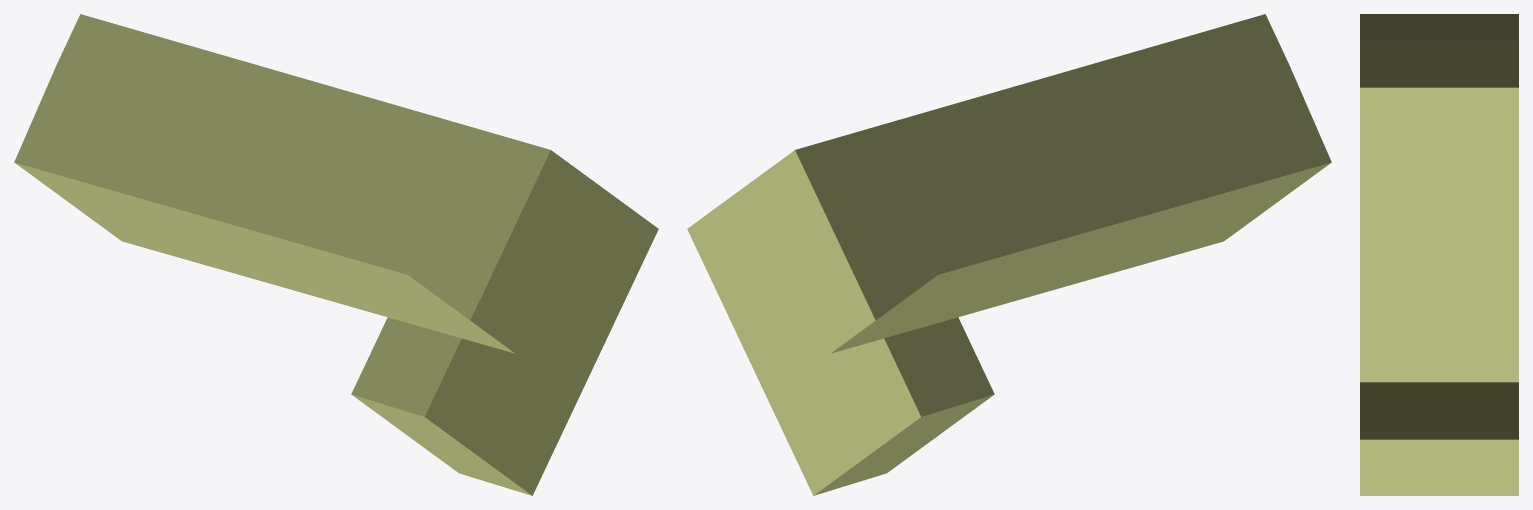
3 renders of one model, left to right at view 1: azimuth 30°, elevation 25°; view 2: azimuth 150°, elevation 25°; view 3: azimuth 270°, elevation 25°, orthographic. The views are drawn at different scales.
Parts seen in each view (by area): view 1: 0_1_0_0_2_2_1_1_3_2; view 2: 0_1_0_0_2_2_1_1_3_2; view 3: 0_1_0_0_2_2_1_1_3_2.
Part boxes in pixels (bbox=[...]): 0_1_0_0_2_2_1_1_3_2: bbox=[14, 14, 658, 495]; 0_1_0_0_2_2_1_1_3_2: bbox=[687, 14, 1331, 495]; 0_1_0_0_2_2_1_1_3_2: bbox=[1360, 14, 1518, 495].
Bounding box in the file's own units: 25.85 × 22.41 × 9.
